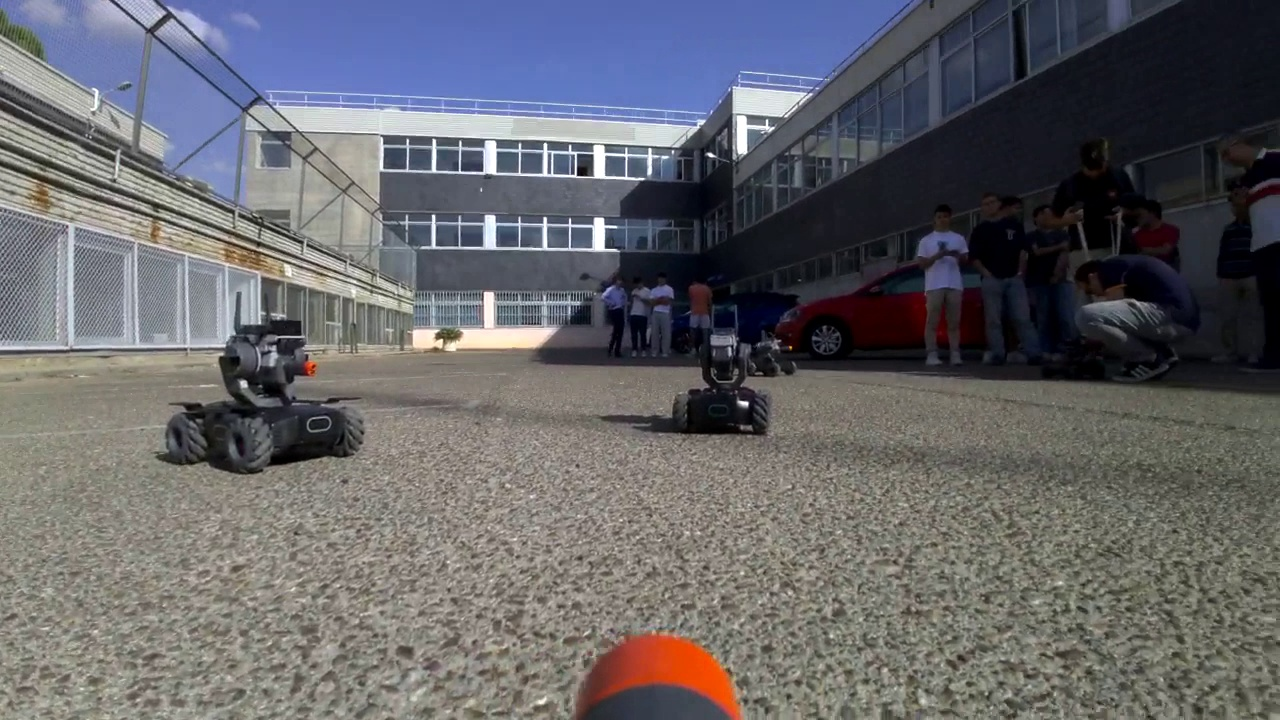robot: (167, 288, 364, 464), (677, 297, 771, 437), (742, 329, 798, 377)
